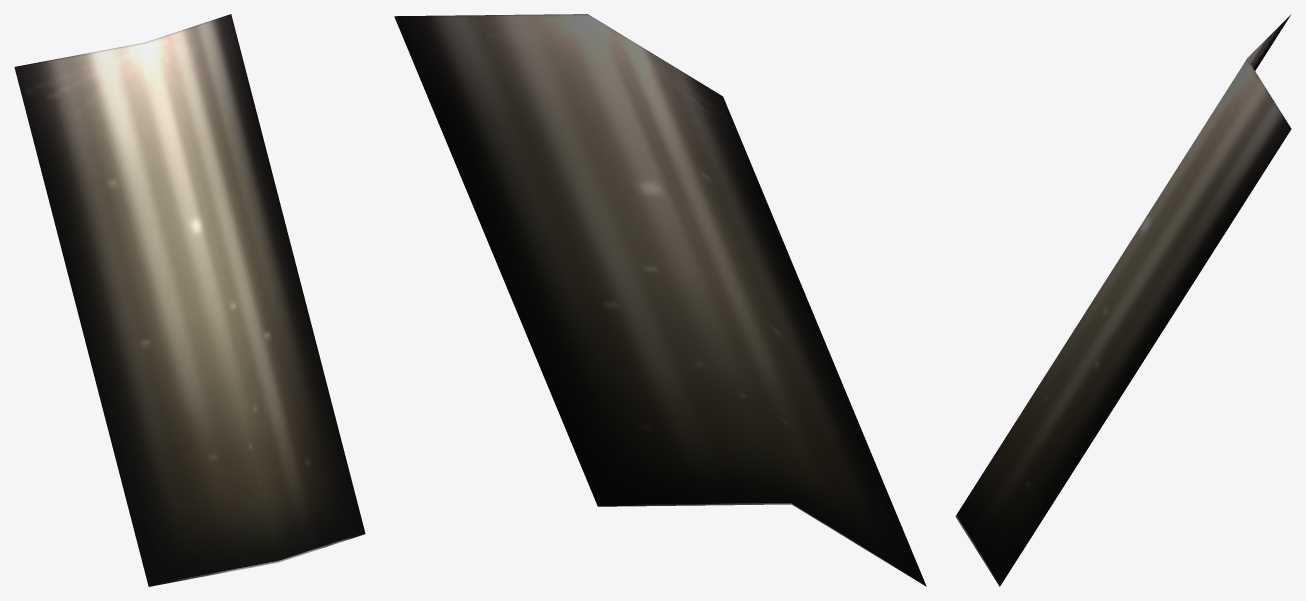
Rendered from unity_dungeon_sunshine01.FBX.
3 views of the same model, side by side, from view 1: azimuth 30°, elevation 25°; view 2: azimuth 150°, elevation 25°; view 3: azimuth 270°, elevation 25° (orthographic). The views are drawn at different scales.
Visible parts, largest first — view 1: unity_dungeon_sunshine01; view 2: unity_dungeon_sunshine01; view 3: unity_dungeon_sunshine01.
Part boxes in pixels (x1,y1,x2,y2): unity_dungeon_sunshine01: (14,14,365,586); unity_dungeon_sunshine01: (394,14,926,586); unity_dungeon_sunshine01: (955,14,1291,586).
Bounding box in the file's own units: 2.87 × 5.49 × 3.54.
